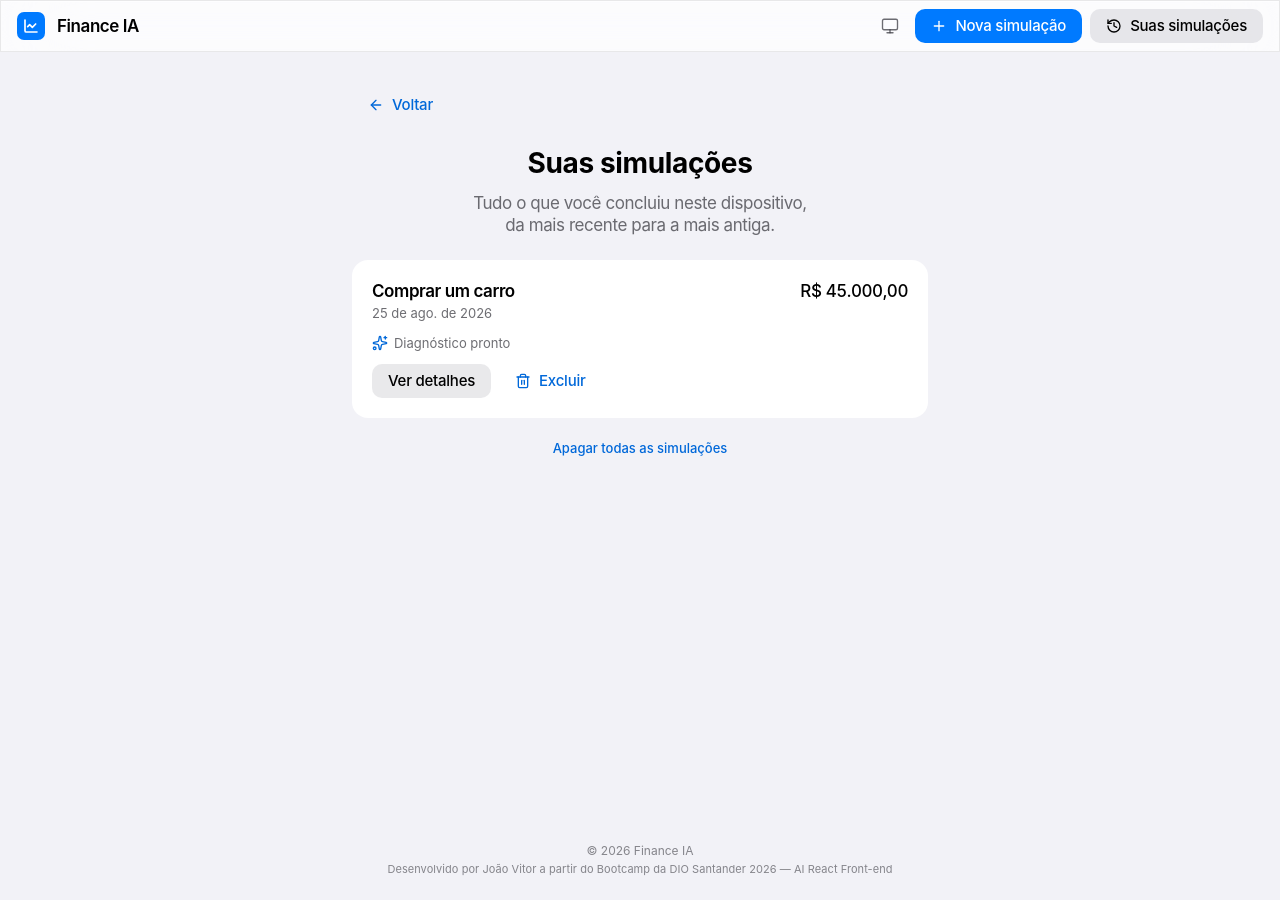
it: histórico e navegação › AC-031: Reabrir pelo histórico não custa uma nova geração @spec:AC-031
What coordinates should you click on to do the following:
click the button "Ver detalhes"
I would click on:
 (432, 381)
Its box is [372,364,491,398].
(page scrolled)
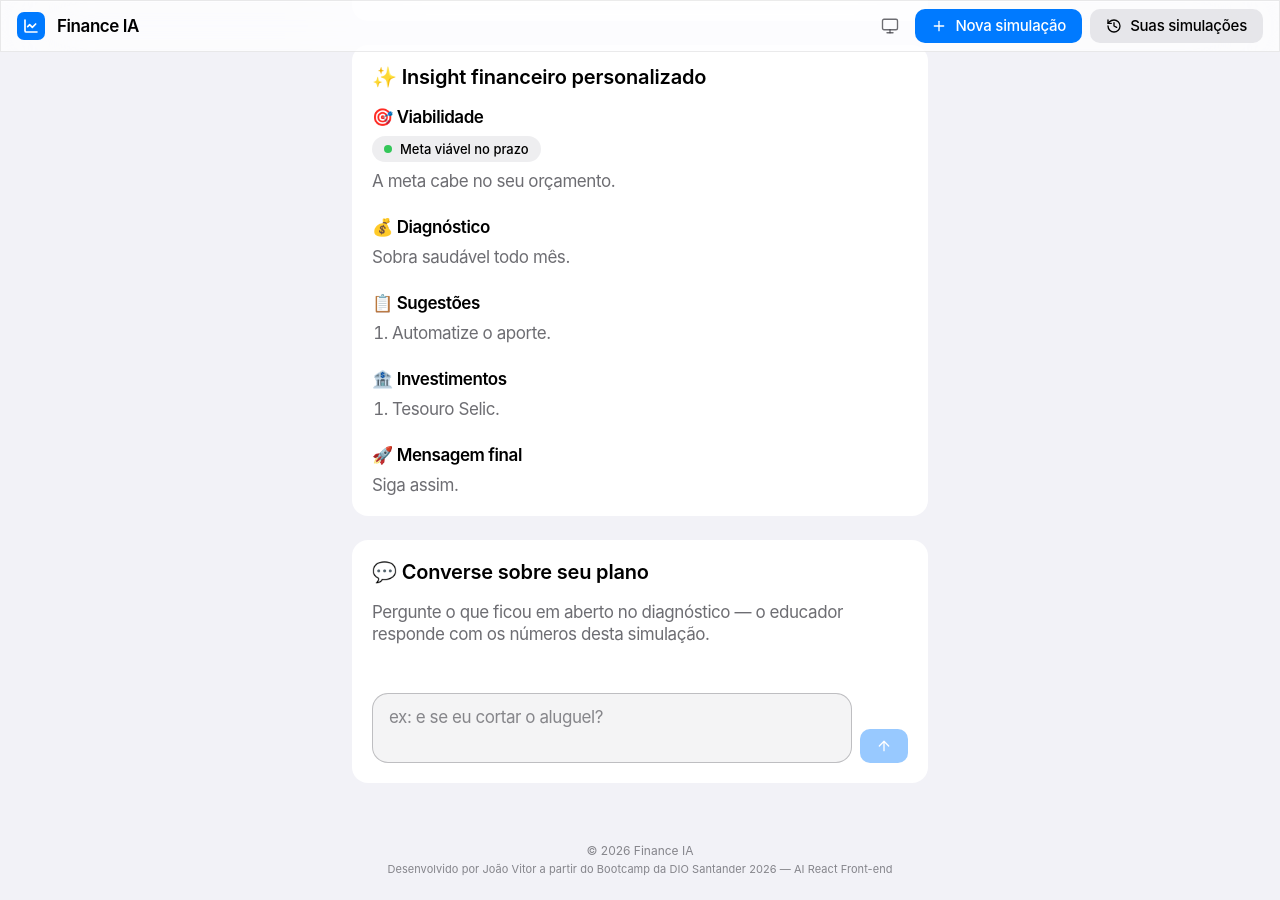
Check: the text "A meta cabe no seu orçamento." is shown, box [372,171,615,191]
